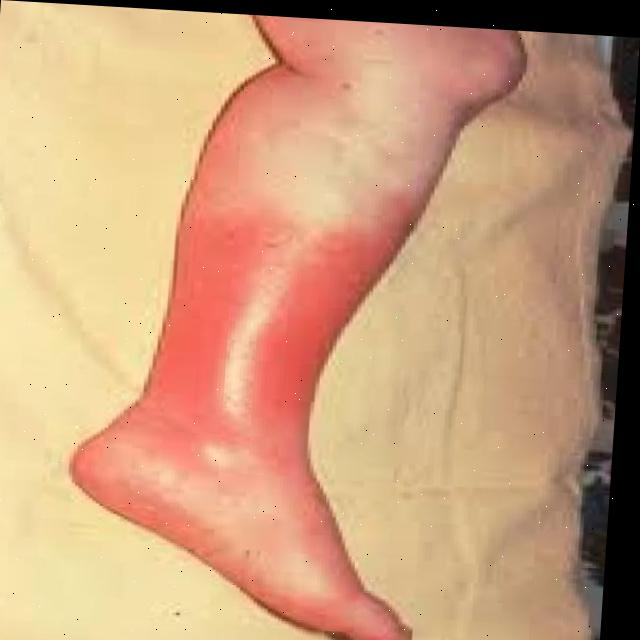Eczema: (165, 198, 340, 457)
